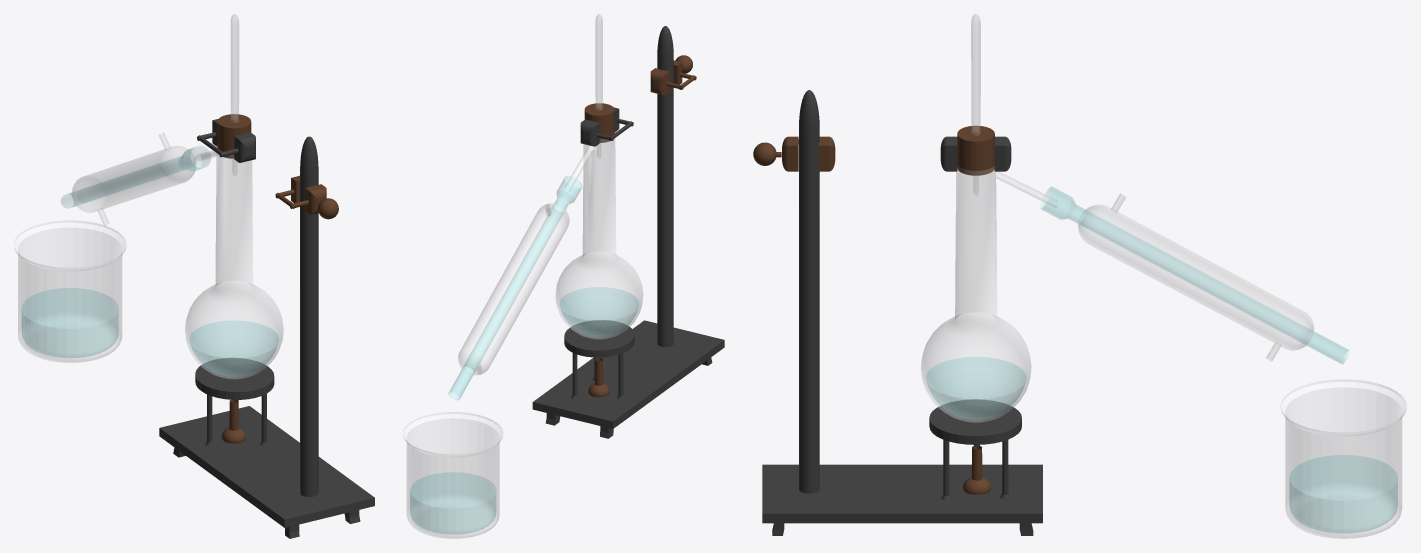
File: DISTILLATION.gltf
The picture shows the model from 3 angles, left to right: view 1: azimuth 30°, elevation 25°; view 2: azimuth 150°, elevation 25°; view 3: azimuth 270°, elevation 25°; orthographic projection. The views are drawn at different scales.
Visible parts, largest first — view 1: Cube, Beaker, Flask, Beaker.001, Pipe2, Flask.002, Flask Stand, Pipe1, Cylinder, Cylinder.004, Cork, Thermometer (+1 smaller); view 2: Cube, Beaker, Flask, Pipe2, Beaker.001, Pipe1, Flask.002, Flask Stand, Cylinder, Cylinder.004, Thermometer, Cork (+1 smaller); view 3: Cube, Beaker, Flask, Pipe2, Beaker.001, Pipe1, Flask.002, Flask Stand, Cork, Cylinder, Thermometer, Cylinder.004 (+1 smaller).
Boxes of the visible parts, <box> form: Cube: <box>159,136,374,538</box>; Beaker: <box>14,220,125,362</box>; Flask: <box>185,145,283,378</box>; Beaker.001: <box>22,288,118,357</box>; Pipe2: <box>72,132,196,225</box>; Flask.002: <box>189,320,278,376</box>; Flask Stand: <box>195,358,274,446</box>; Pipe1: <box>61,146,210,208</box>; Cylinder: <box>275,175,338,219</box>; Cylinder.004: <box>197,119,255,162</box>; Cork: <box>217,114,251,158</box>; Thermometer: <box>231,14,238,175</box>; Cube: <box>532,26,724,438</box>; Beaker: <box>403,412,502,538</box>; Flask: <box>556,138,642,338</box>; Pipe2: <box>458,203,569,374</box>; Beaker.001: <box>410,472,495,534</box>; Pipe1: <box>448,176,582,400</box>; Flask.002: <box>559,287,638,337</box>; Flask Stand: <box>564,320,634,399</box>; Cylinder: <box>650,55,696,95</box>; Cylinder.004: <box>580,107,633,146</box>; Thermometer: <box>595,14,602,158</box>; Cork: <box>584,103,614,142</box>; Cube: <box>762,90,1042,535</box>; Beaker: <box>1281,379,1406,538</box>; Flask: <box>921,166,1059,422</box>; Pipe2: <box>1078,193,1313,361</box>; Beaker.001: <box>1289,455,1397,533</box>; Pipe1: <box>1040,186,1349,363</box>; Flask.002: <box>926,357,1026,419</box>; Flask Stand: <box>929,399,1021,500</box>; Cork: <box>957,125,994,175</box>; Cylinder: <box>753,136,835,171</box>; Thermometer: <box>971,14,980,195</box>; Cylinder.004: <box>940,136,1011,171</box>.
Bounding box in the file's own units: 6.13 × 27.08 × 31.82.
